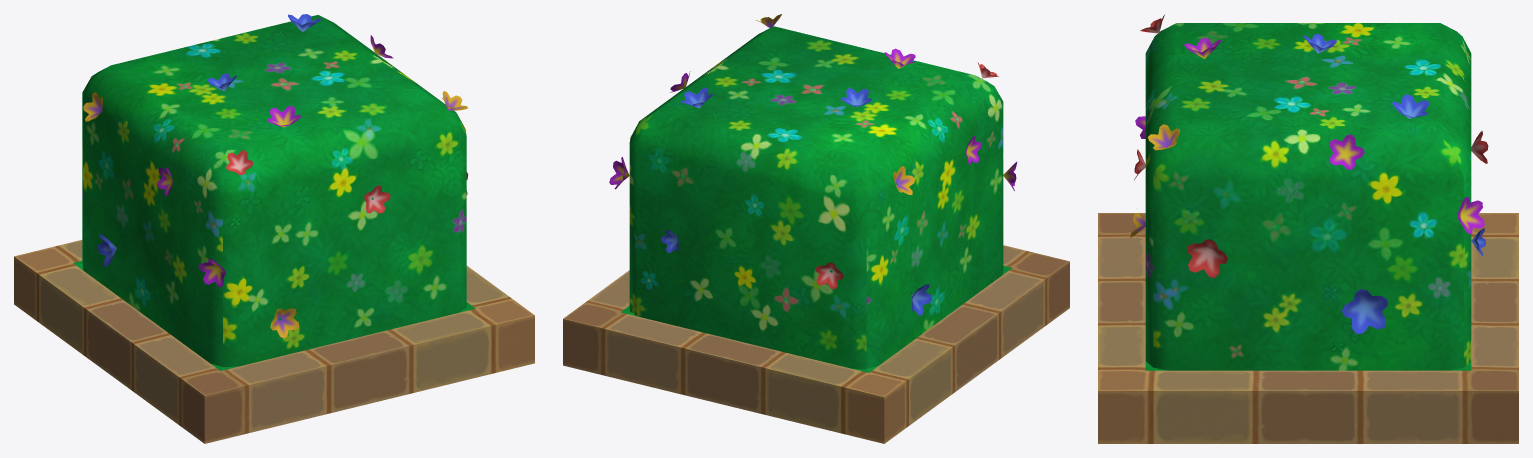
File: Plant04_b03.FBX
The picture shows the model from 3 angles, left to right: view 1: azimuth 30°, elevation 25°; view 2: azimuth 150°, elevation 25°; view 3: azimuth 270°, elevation 25°; orthographic projection. The views are drawn at different scales.
Visible parts, largest first — view 1: Plant04_b03; view 2: Plant04_b03; view 3: Plant04_b03.
Part boxes in pixels (x1=…): Plant04_b03: x1=14, y1=14, x2=534, y2=443; Plant04_b03: x1=563, y1=14, x2=1069, y2=443; Plant04_b03: x1=1098, y1=15, x2=1518, y2=443.
Bounding box in the file's own units: 339 × 261 × 339.
3 materials, 3 textured.
